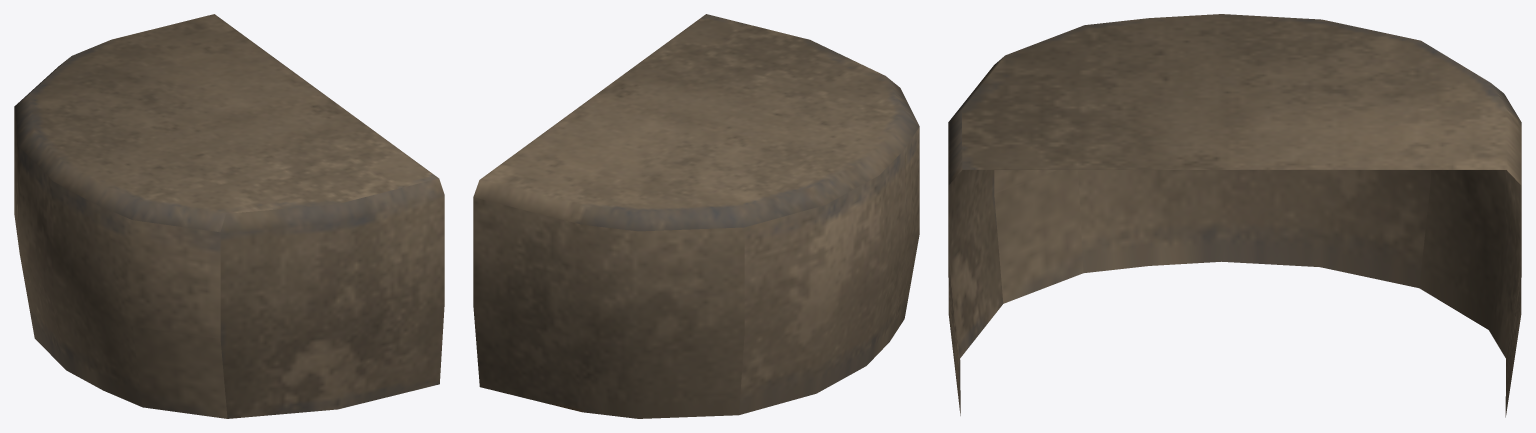
The model's file is Fundo.fbx.
The picture shows the model from 3 angles, left to right: view 1: azimuth 30°, elevation 25°; view 2: azimuth 150°, elevation 25°; view 3: azimuth 270°, elevation 25°; orthographic projection. The views are drawn at different scales.
Visible parts, largest first — view 1: Fundo; view 2: Fundo; view 3: Fundo.
Boxes of the visible parts, x1=… form: Fundo: x1=14, y1=14, x2=444, y2=418; Fundo: x1=473, y1=14, x2=919, y2=418; Fundo: x1=948, y1=14, x2=1521, y2=417.
Bounding box in the file's own units: 563 × 396 × 828.
